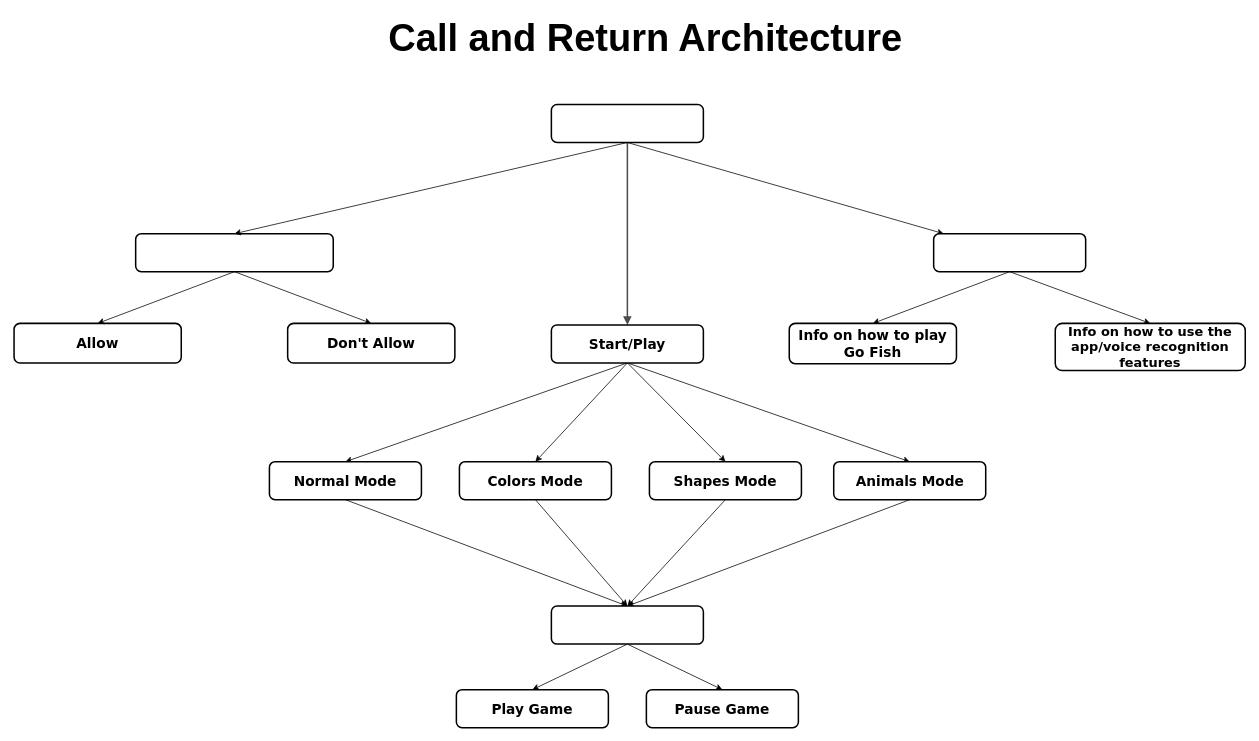
This 1259x741 diagram has some shape labels left out. Each missing label, with the box of its shape:
Go Fish Game: (550, 605, 704, 644)
Help & Button Info: (933, 233, 1086, 272)
Microphone Permissions (On launch): (135, 233, 334, 272)
Mobile Game/ Main Menu: (550, 103, 704, 143)
